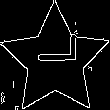L_W: (31, 45, 80, 76)
